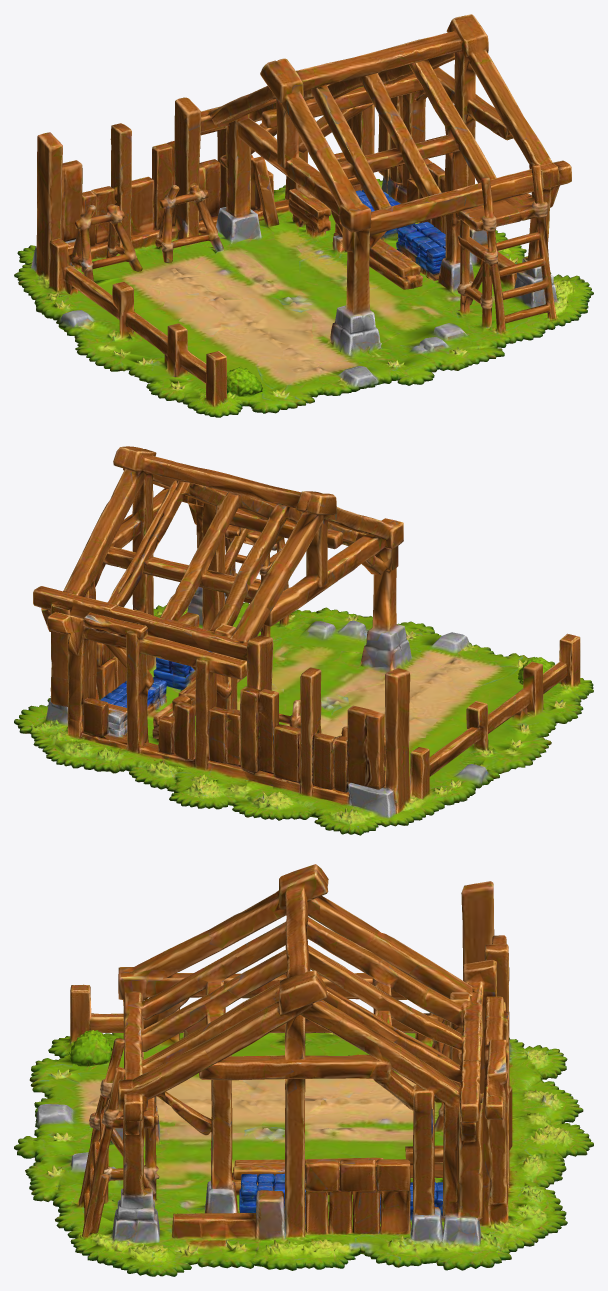
The model's file is arqueria_e2.glb.
3 views of the same model, one above another, from view 1: azimuth 30°, elevation 25°; view 2: azimuth 150°, elevation 25°; view 3: azimuth 270°, elevation 25° (orthographic). The views are drawn at different scales.
Size of the model in its own units: 1.9 by 0.9342 by 1.81.
1 material, 1 textured.
